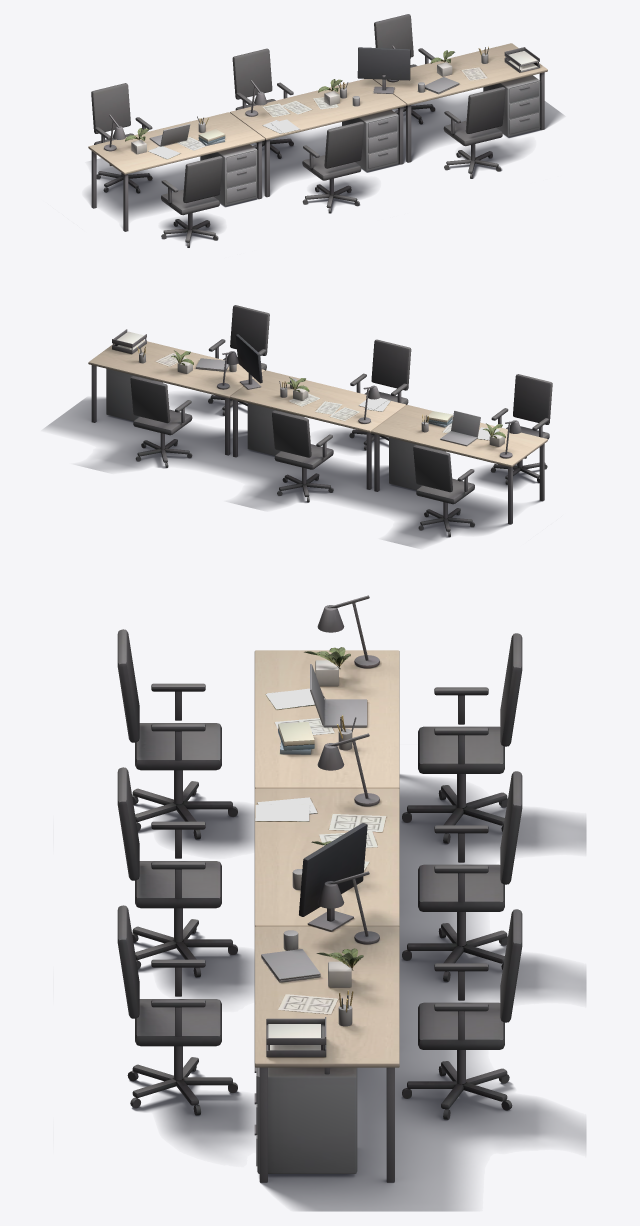
The model's file is bench.glb.
3 views of the same model, one above another, from view 1: azimuth 30°, elevation 25°; view 2: azimuth 150°, elevation 25°; view 3: azimuth 270°, elevation 25° (orthographic). The views are drawn at different scales.
Visible parts, largest first — view 1: bench_contact_shadow, desk2_top, desk1_top, desk3_top, desk3_monitor_screen, desk2_chair_far_back, desk1_chair_far_back, desk1_chair_near_back, desk2_chair_near_back, desk3_chair_near_back, desk3_chair_far_back, desk2_pedestal (+15 smaller); view 2: bench_contact_shadow, desk2_top, desk3_top, desk1_top, desk2_chair_near_back, desk1_chair_near_back, desk1_chair_far_back, desk3_chair_far_back, desk2_chair_far_back, desk3_chair_near_back, desk2_pedestal, desk3_pedestal (+6 smaller); view 3: bench_contact_shadow, desk1_top, desk3_top, desk2_top, desk3_pedestal, desk1_chair_near_seat, desk2_chair_near_seat, desk3_chair_near_seat, desk1_chair_far_seat, desk2_chair_far_seat, desk3_chair_far_seat, desk3_monitor_screen (+12 smaller).
Part boxes in pixels (<box>): bench_contact_shadow: <box>86,96,563,247</box>; desk2_top: <box>230,79,406,140</box>; desk1_top: <box>88,112,264,174</box>; desk3_top: <box>373,43,547,105</box>; desk3_monitor_screen: <box>357,47,410,80</box>; desk2_chair_far_back: <box>232,48,272,99</box>; desk1_chair_far_back: <box>91,83,130,133</box>; desk1_chair_near_back: <box>183,156,222,202</box>; desk2_chair_near_back: <box>324,121,364,168</box>; desk3_chair_near_back: <box>465,87,505,133</box>; desk3_chair_far_back: <box>374,14,413,57</box>; desk2_pedestal: <box>342,109,398,171</box>; bench_contact_shadow: <box>44,393,541,547</box>; desk2_top: <box>230,370,406,432</box>; desk3_top: <box>88,340,264,398</box>; desk1_top: <box>371,405,547,467</box>; desk2_chair_near_back: <box>371,339,411,390</box>; desk1_chair_near_back: <box>513,374,552,424</box>; desk1_chair_far_back: <box>413,445,452,492</box>; desk3_chair_far_back: <box>130,376,170,423</box>; desk2_chair_far_back: <box>272,410,311,457</box>; desk3_chair_near_back: <box>230,305,269,355</box>; desk2_pedestal: <box>247,403,304,455</box>; desk3_pedestal: <box>106,368,162,421</box>; bench_contact_shadow: <box>129,774,586,1211</box>; desk1_top: <box>254,650,399,788</box>; desk3_top: <box>254,926,399,1067</box>; desk2_top: <box>254,788,399,926</box>; desk3_pedestal: <box>257,1067,357,1173</box>; desk1_chair_near_seat: <box>135,723,221,770</box>; desk2_chair_near_seat: <box>135,861,221,908</box>; desk3_chair_near_seat: <box>135,999,221,1046</box>; desk1_chair_far_seat: <box>418,726,504,773</box>; desk2_chair_far_seat: <box>418,864,504,911</box>; desk3_chair_far_seat: <box>418,1002,504,1049</box>; desk3_monitor_screen: <box>299,823,367,916</box>.
Size of the model in its own units: 6.09 by 1.24 by 2.94.
Materials: 2 (2 with a texture image).
